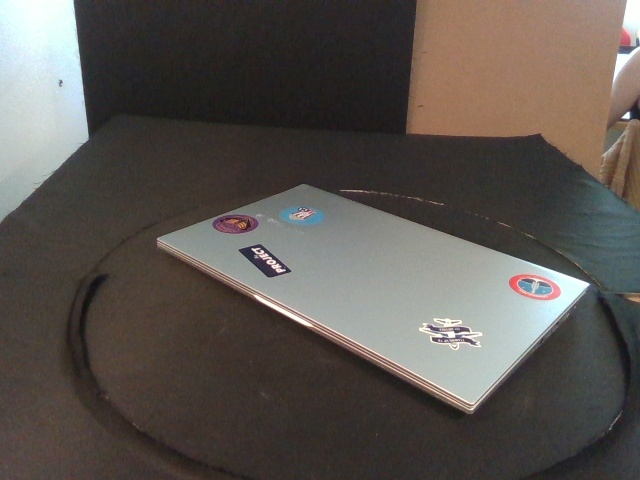laptop: (157, 183, 592, 416)
